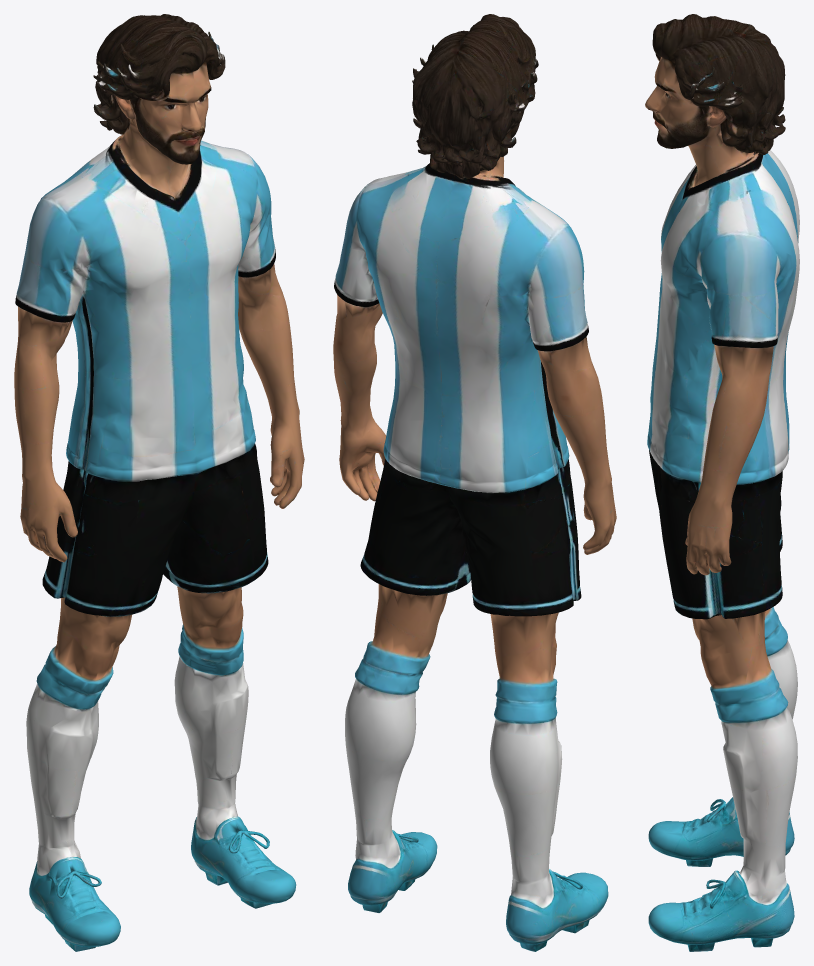
Rendered from architect.glb.
The picture shows the model from 3 angles, left to right: view 1: azimuth 30°, elevation 25°; view 2: azimuth 150°, elevation 25°; view 3: azimuth 270°, elevation 25°; orthographic projection. The views are drawn at different scales.
Visible parts, largest first — view 1: mesh_node; view 2: mesh_node; view 3: mesh_node.
Part boxes in pixels (x1,y1,x2,y2): mesh_node: (14,14,304,951); mesh_node: (333,14,616,951); mesh_node: (645,14,799,951).
Bounding box in the file's own units: 0.6084 × 1.9 × 0.3013.
1 material, 1 textured.
